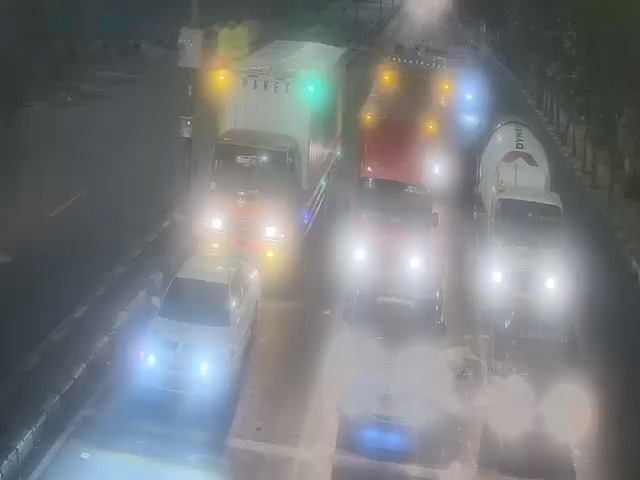Mobil: (346, 262, 442, 417), (152, 246, 252, 393), (480, 306, 575, 431)
Truk: (213, 35, 344, 254), (474, 116, 567, 302), (359, 67, 437, 271)
